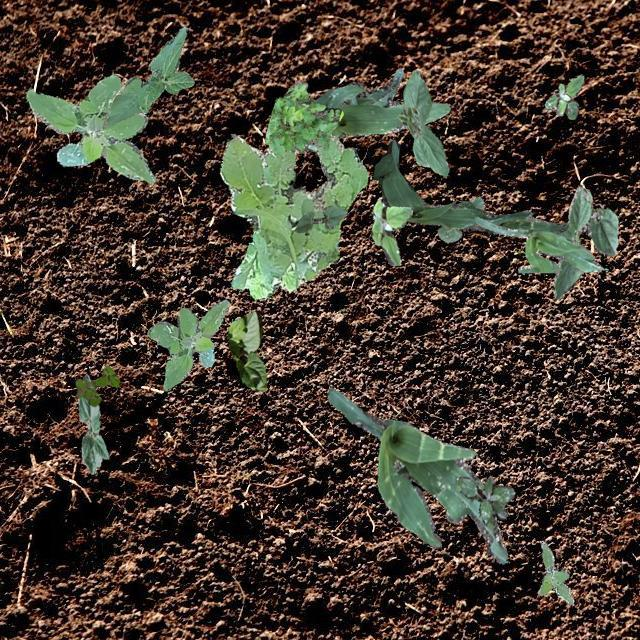crop: (328, 387, 507, 562), (372, 138, 566, 234), (306, 66, 450, 152), (101, 26, 192, 128), (552, 186, 618, 300), (473, 215, 602, 272), (396, 70, 448, 174), (226, 309, 266, 392), (76, 373, 108, 472), (436, 196, 484, 240), (294, 204, 346, 232)
weed: (218, 132, 366, 298), (24, 72, 154, 182), (148, 298, 228, 389), (264, 80, 342, 154), (454, 476, 514, 526), (369, 198, 412, 264), (538, 540, 572, 602), (74, 364, 119, 406), (544, 74, 582, 118)
